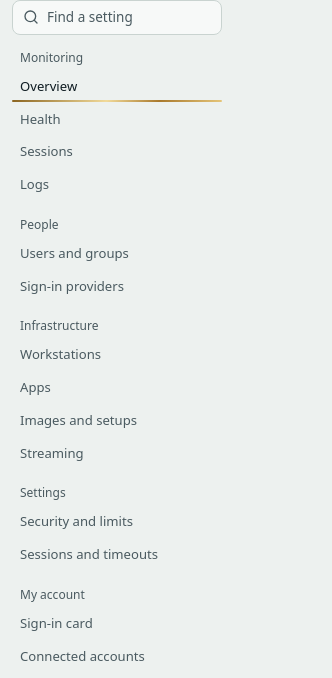
Test case: SettingsNav › find 'rate' leaves only Security and limits
This screenshot has width=332, height=678.
Type "rate" into the search field labelled "Find a setting" at point(129, 17), box [47,7,211,28]
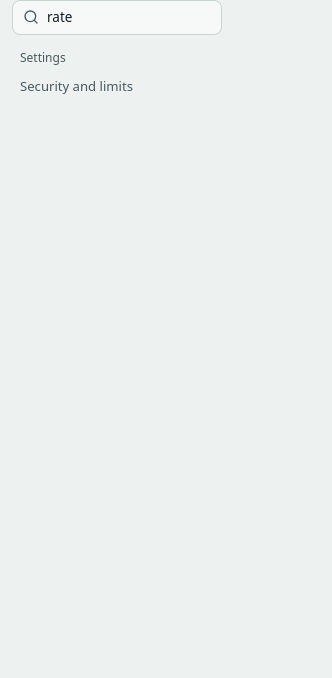
Now the button "Overview" is gone
Now the button "Logs" is gone
Now the number of buttons is 1, box [12,71,222,102]
